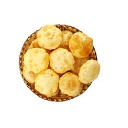poori: (70, 30, 94, 58), (35, 69, 60, 95), (58, 72, 83, 97), (48, 48, 74, 72), (38, 27, 62, 51), (26, 48, 48, 71), (81, 58, 100, 84)
